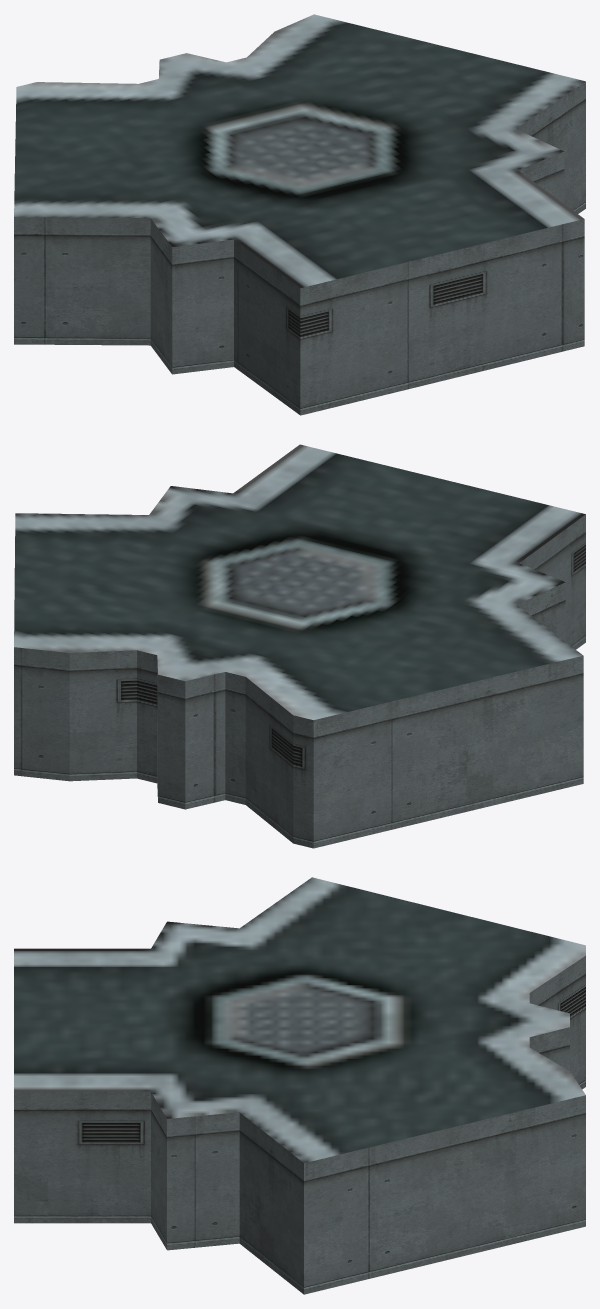
The model's file is medium_roof42.glb.
3 renders of one model, top to bottom at view 1: azimuth 30°, elevation 25°; view 2: azimuth 150°, elevation 25°; view 3: azimuth 270°, elevation 25°, orthographic. The views are drawn at different scales.
Visible parts, largest first — view 1: buildings/saxarba/medium/medium_roof42; view 2: buildings/saxarba/medium/medium_roof42; view 3: buildings/saxarba/medium/medium_roof42.
Part boxes in pixels (box(x1,y1,x2,y2)): buildings/saxarba/medium/medium_roof42: box(14, 14, 585, 415); buildings/saxarba/medium/medium_roof42: box(14, 444, 585, 848); buildings/saxarba/medium/medium_roof42: box(14, 877, 585, 1294).
Size of the model in its own units: 84 by 18 by 71.
